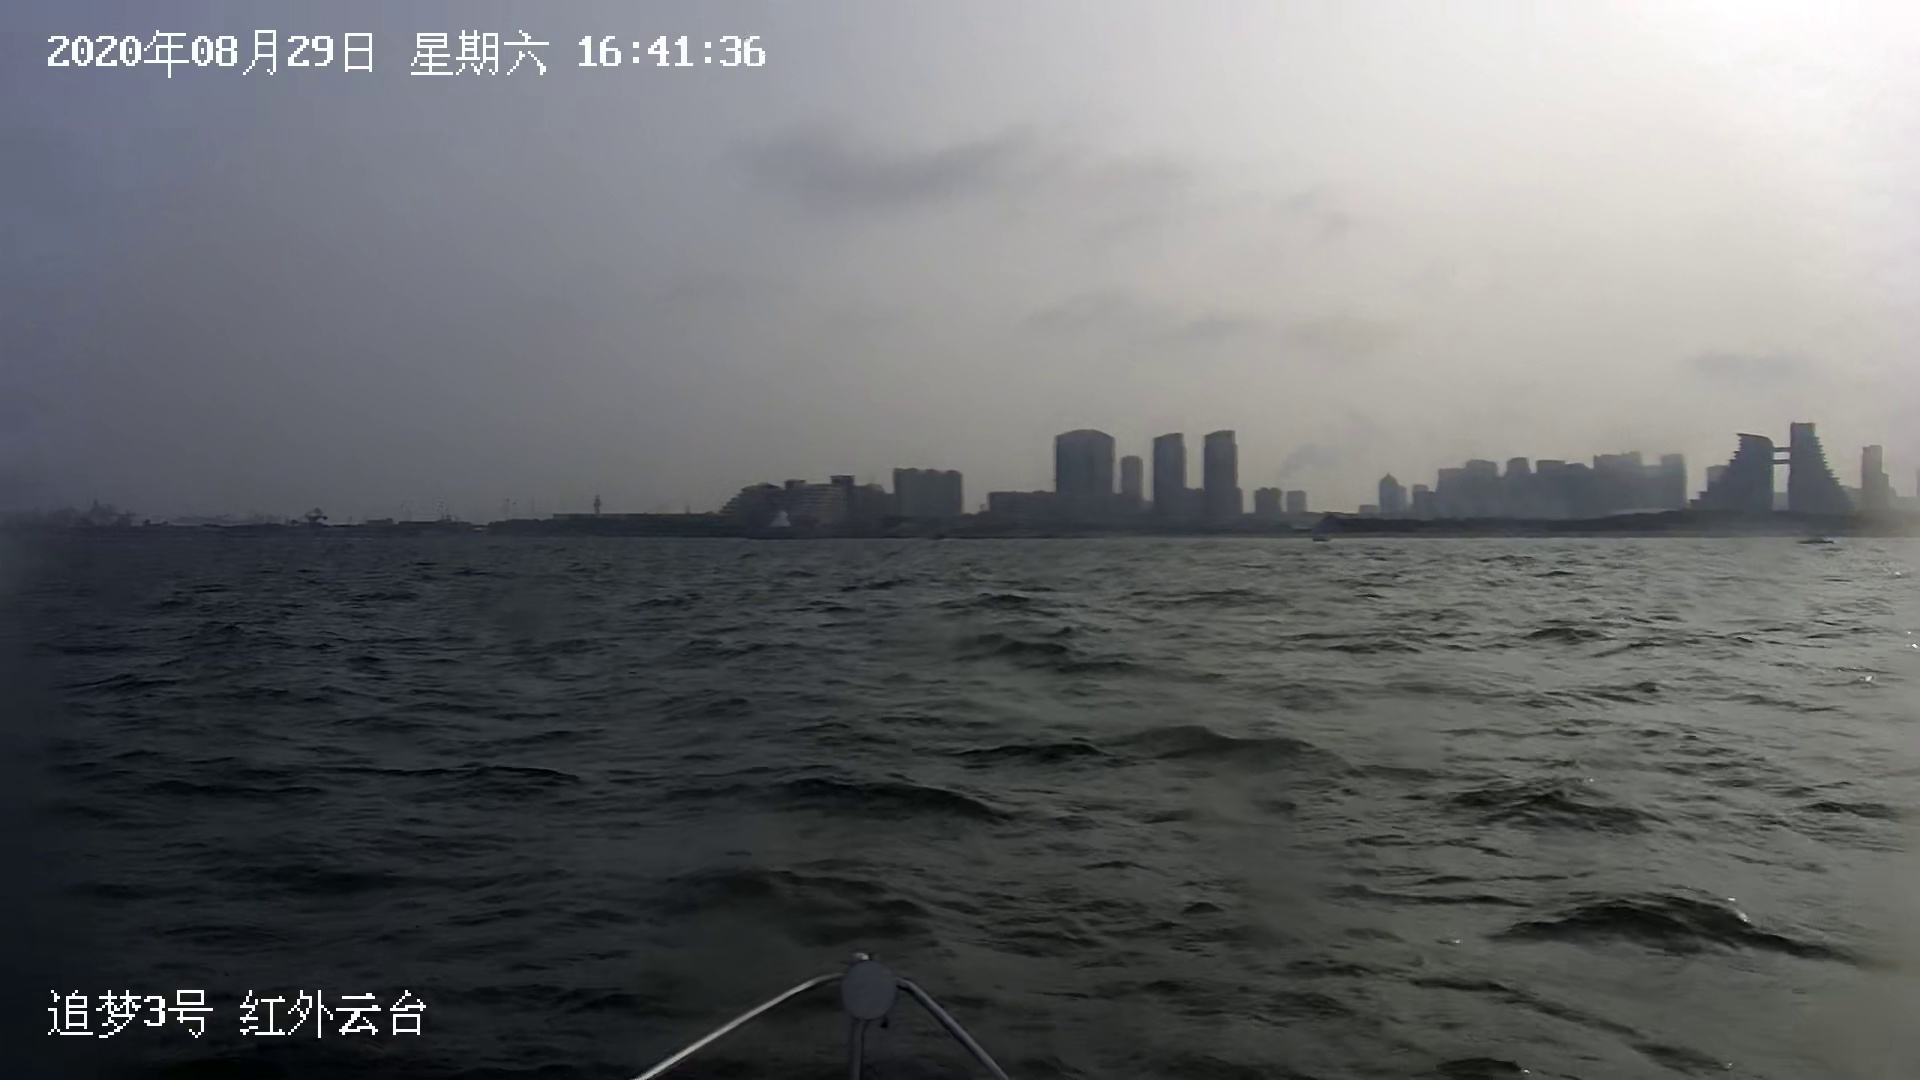coast: (22, 415, 1905, 535)
